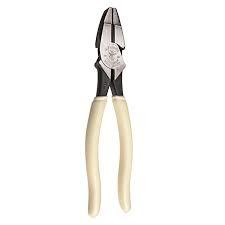pliers: (83, 4, 134, 224)
